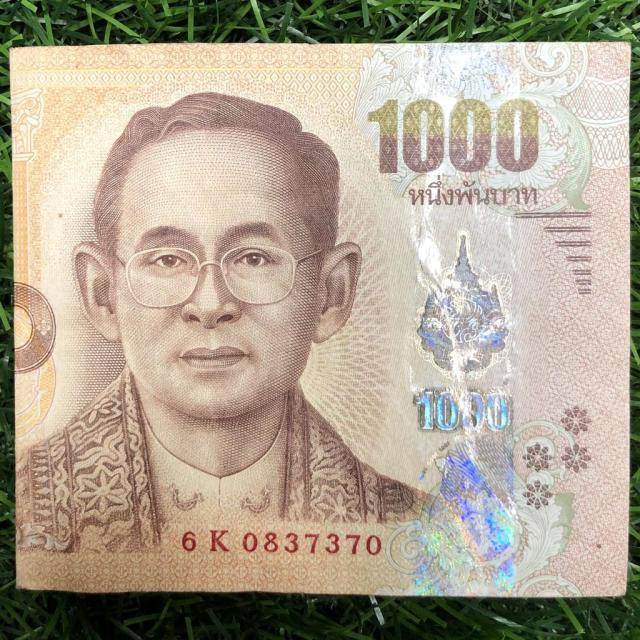THAI1000: (11, 42, 629, 598)
